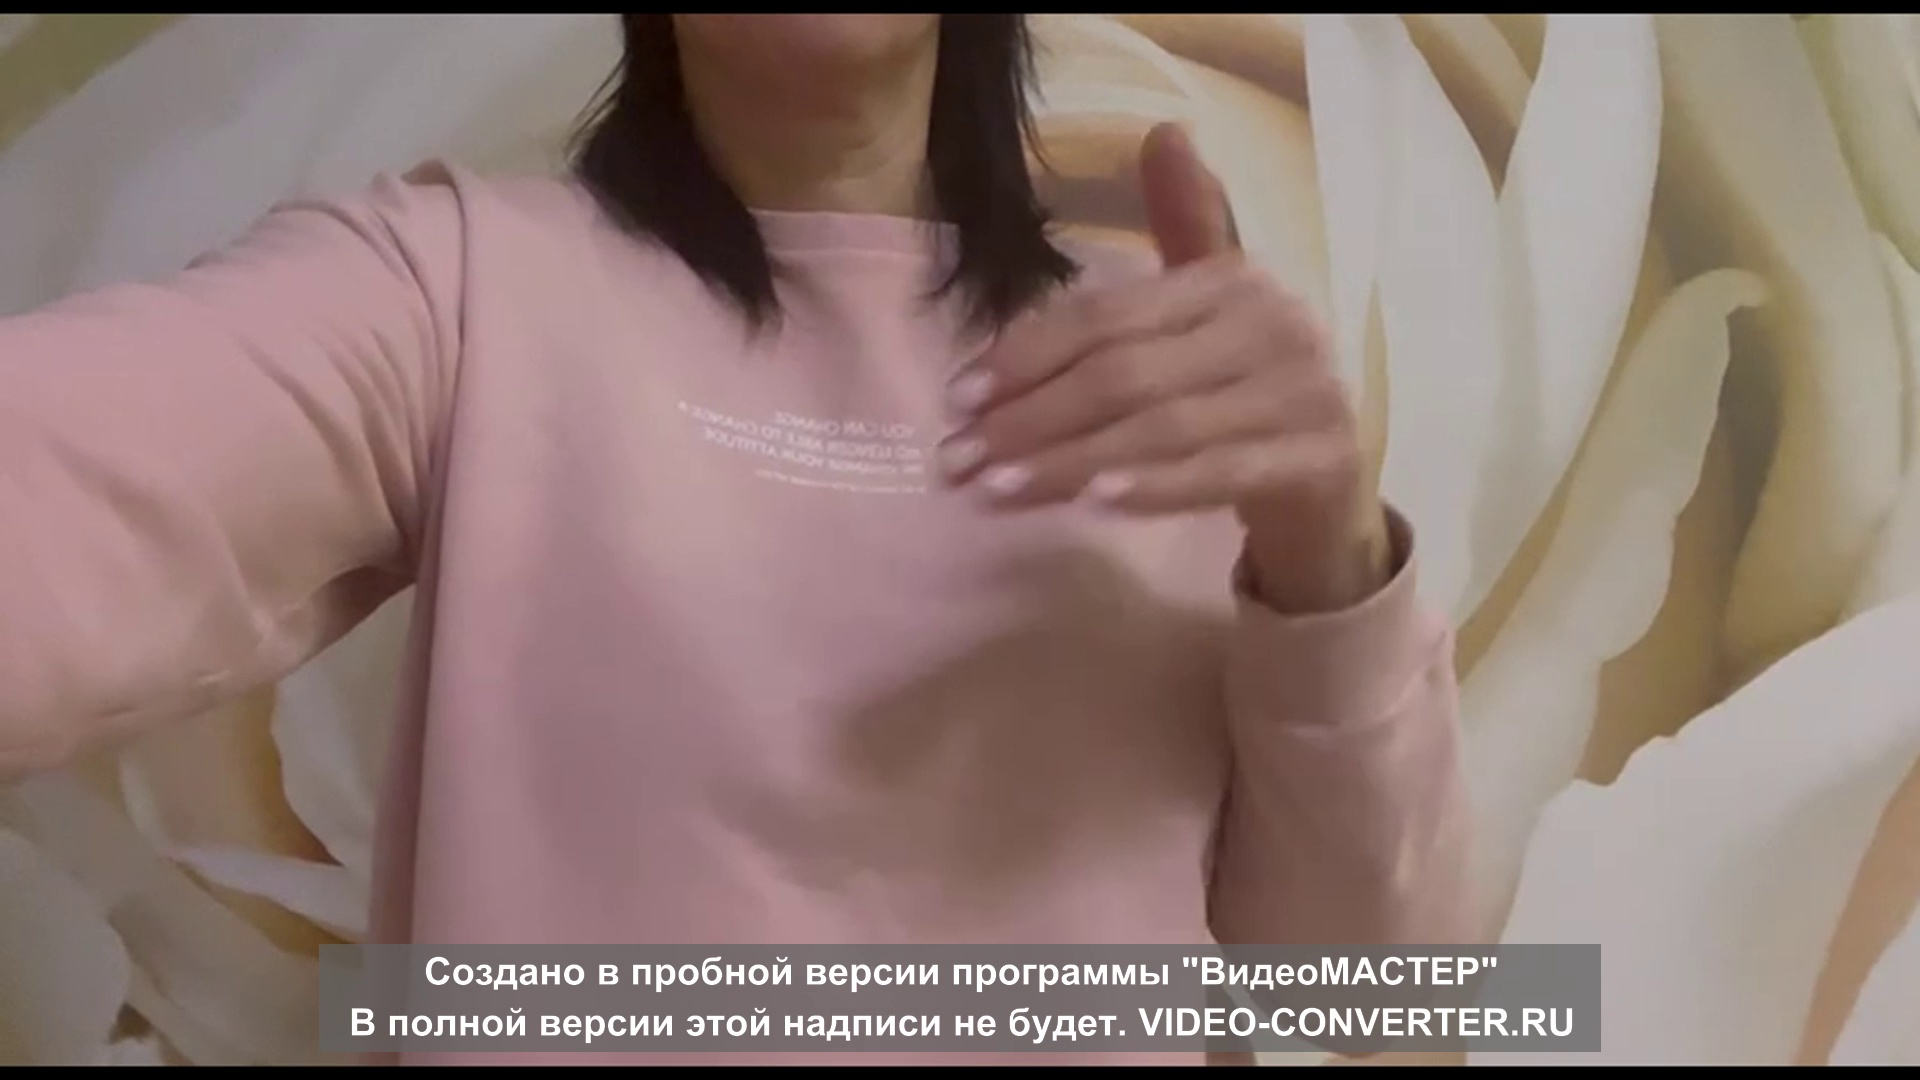Кисть: (932, 121, 1366, 516)
